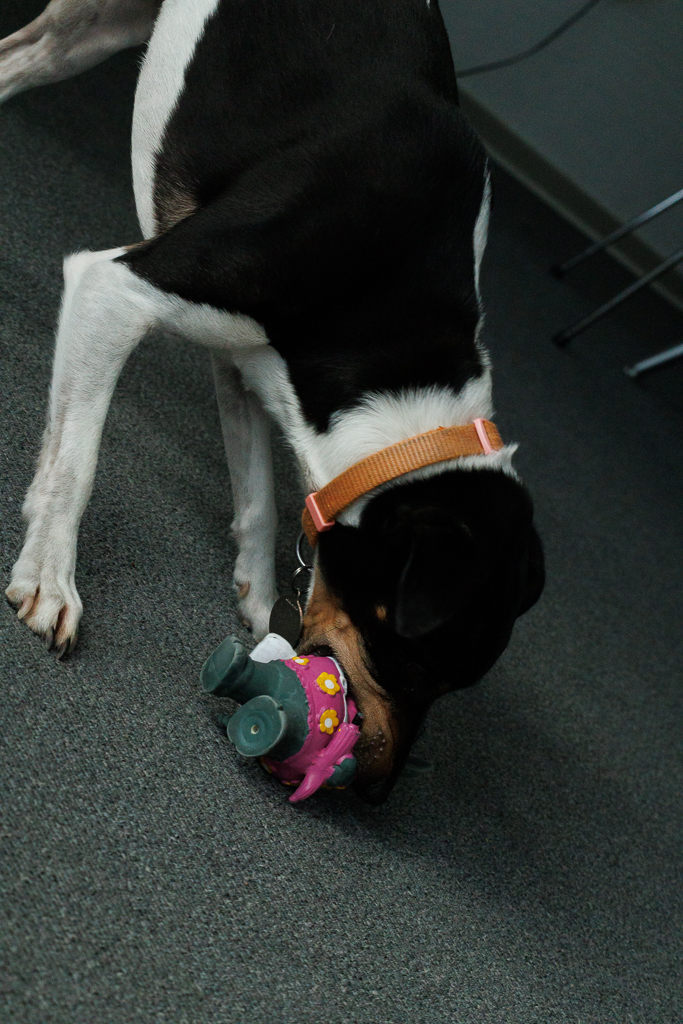Dog: (0, 0, 560, 823)
Humanoid: (182, 618, 459, 835)
